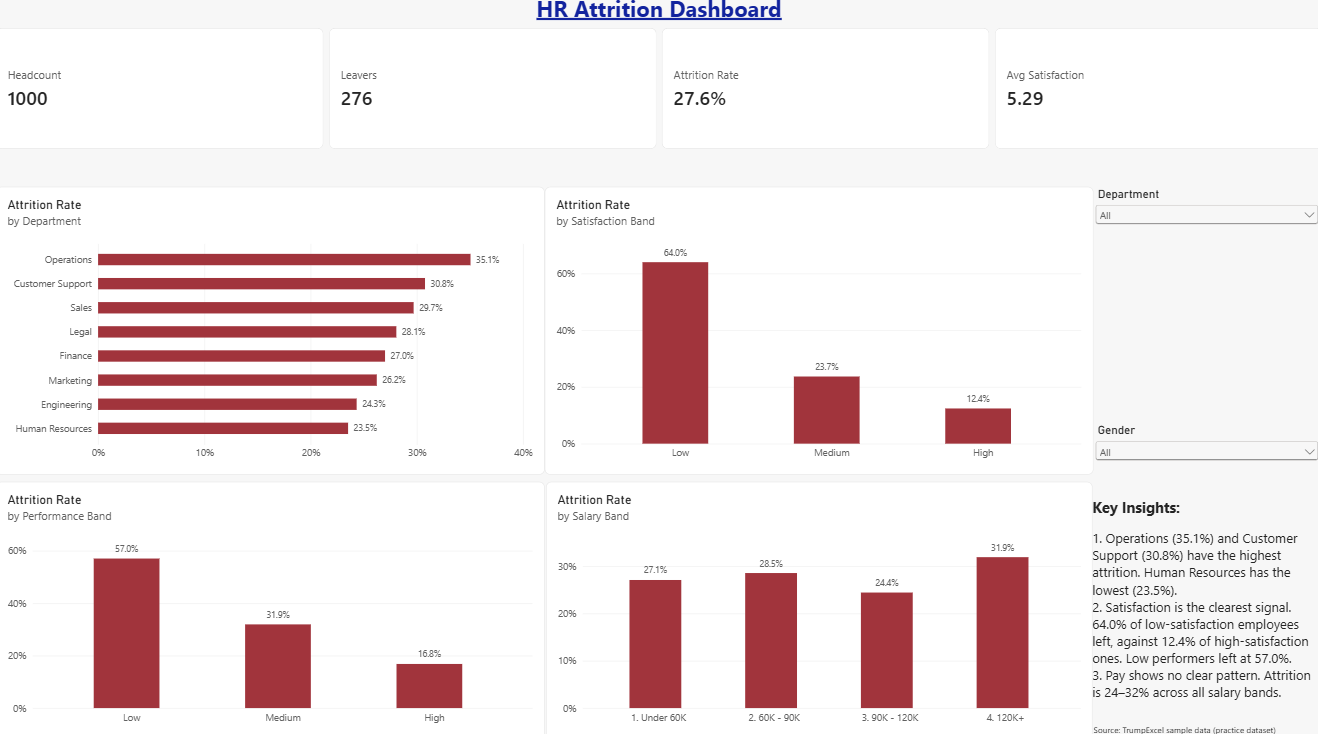

Layout of this report page (visuals, bound fields, positions):
{"tool":"powerbi","page":{"name":"Dashboard","canvas":[1920,1080],"ordinal":1},"visuals":[{"type":"textbox","box":[0,0,1920,50],"z":0},{"type":"cardVisual","fields":{"Data":["HR Records.Headcount","HR Records.Leavers","HR Records.Attrition Rate","HR Records.Avg Satisfaction"]},"box":[0,50,1920,175],"z":1000},{"type":"clusteredBarChart","fields":{"Category":["HR Records.Department"],"Y":["HR Records.Attrition Rate"]},"box":[0,280,794.3,417.1],"z":2000},{"type":"clusteredColumnChart","fields":{"Category":["HR Records.Satisfaction Band"],"Y":["HR Records.Attrition Rate"]},"box":[794.3,280,794.3,417.1],"z":3000},{"type":"clusteredColumnChart","fields":{"Category":["HR Records.Performance Band"],"Y":["HR Records.Attrition Rate"]},"box":[0,707.1,794.3,372.9],"z":4000},{"type":"clusteredColumnChart","fields":{"Category":["HR Records.Salary Band"],"Y":["HR Records.Attrition Rate"]},"box":[797.1,707.1,791.4,372.9],"z":5000},{"type":"slicer","fields":{"Values":["HR Records.Department"]},"box":[1587.8,280,332.2,363.3],"z":6000},{"type":"slicer","fields":{"Values":["HR Records.Gender"]},"box":[1587.5,622.5,332.5,107.5],"z":7000},{"type":"textbox","box":[1587.8,730,332.2,326.7],"z":7001},{"type":"textbox","box":[1588.9,1056.8,331.2,23.5],"z":7002}]}

Visuals, with their boxes in screenshot pixels (x1, y1, x2, y2), scaled from the page's 1920x1080 canvas onto the 1318x734 screenshot:
textbox: {"x1": 0, "y1": 0, "x2": 1317, "y2": 34}
cardVisual - HR Records.Headcount x HR Records.Leavers: {"x1": 0, "y1": 34, "x2": 1317, "y2": 153}
clusteredBarChart - HR Records.Department x HR Records.Attrition Rate: {"x1": 0, "y1": 190, "x2": 545, "y2": 474}
clusteredColumnChart - HR Records.Satisfaction Band x HR Records.Attrition Rate: {"x1": 545, "y1": 190, "x2": 1091, "y2": 474}
clusteredColumnChart - HR Records.Performance Band x HR Records.Attrition Rate: {"x1": 0, "y1": 481, "x2": 545, "y2": 733}
clusteredColumnChart - HR Records.Salary Band x HR Records.Attrition Rate: {"x1": 547, "y1": 481, "x2": 1090, "y2": 733}
slicer - HR Records.Department: {"x1": 1090, "y1": 190, "x2": 1317, "y2": 437}
slicer - HR Records.Gender: {"x1": 1090, "y1": 423, "x2": 1317, "y2": 496}
textbox: {"x1": 1090, "y1": 496, "x2": 1317, "y2": 718}
textbox: {"x1": 1091, "y1": 718, "x2": 1317, "y2": 733}
